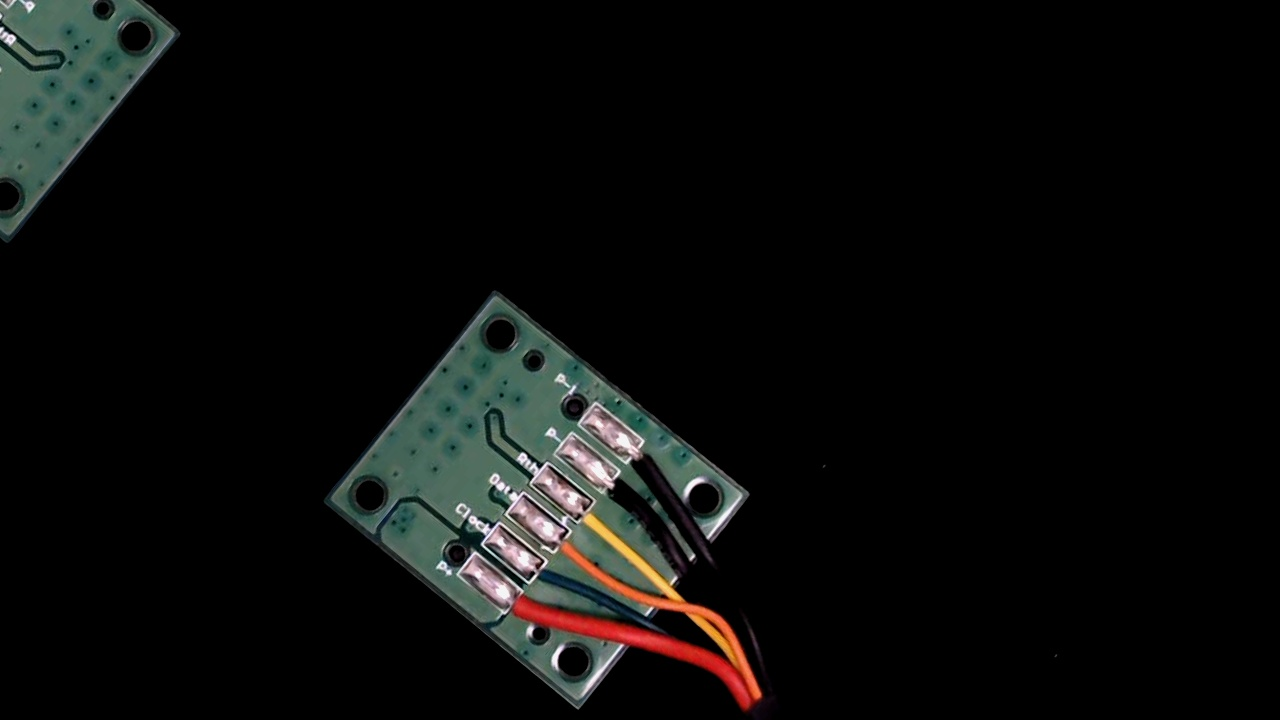Black: (583, 456, 662, 529)
Black1: (609, 428, 682, 496)
Green: (507, 542, 583, 612)
Orange: (534, 514, 610, 585)
Red: (486, 574, 561, 645)
Yellow: (560, 483, 639, 556)
